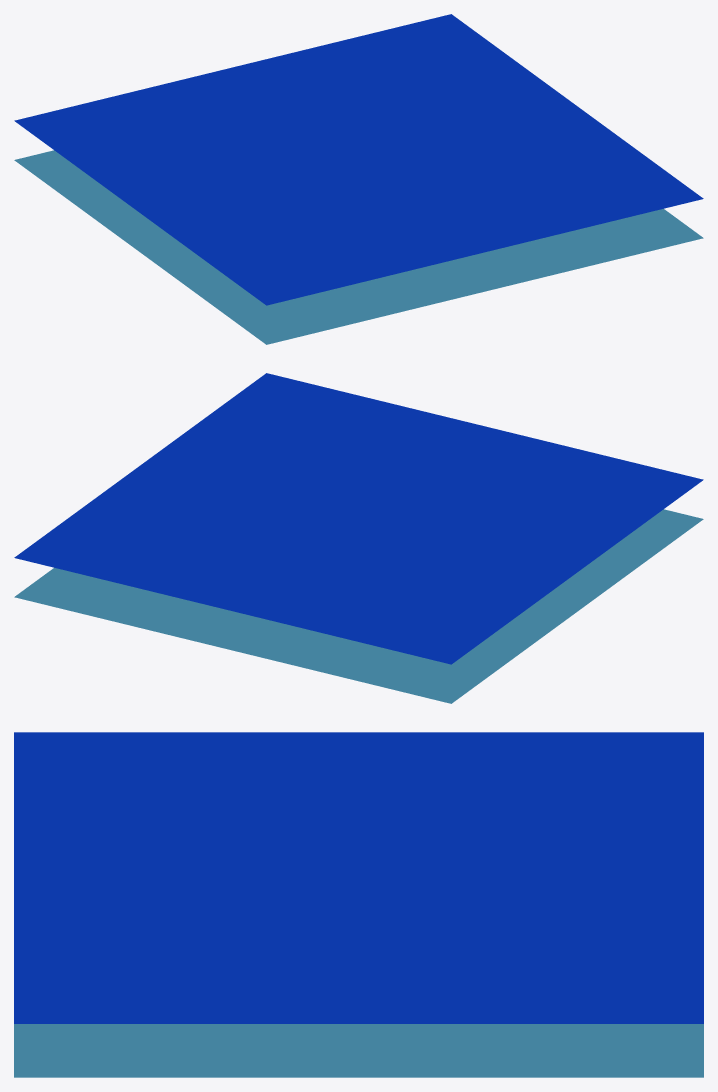
The model's file is MushroomMash2.glb.
3 views of the same model, one above another, from view 1: azimuth 30°, elevation 25°; view 2: azimuth 150°, elevation 25°; view 3: azimuth 270°, elevation 25° (orthographic). The views are drawn at different scales.
Visible parts, largest first — view 1: dark sky, sky.lower; view 2: dark sky, sky.lower; view 3: dark sky, sky.lower.
Boxes of the visible parts, left/top/right/bottom form: dark sky: left=14, top=14, right=703, bottom=305; sky.lower: left=14, top=150, right=703, bottom=344; dark sky: left=14, top=373, right=703, bottom=664; sky.lower: left=14, top=509, right=703, bottom=703; dark sky: left=14, top=732, right=703, bottom=1023; sky.lower: left=14, top=1024, right=703, bottom=1077.
Size of the model in its own units: 2000 by 172 by 2000.
